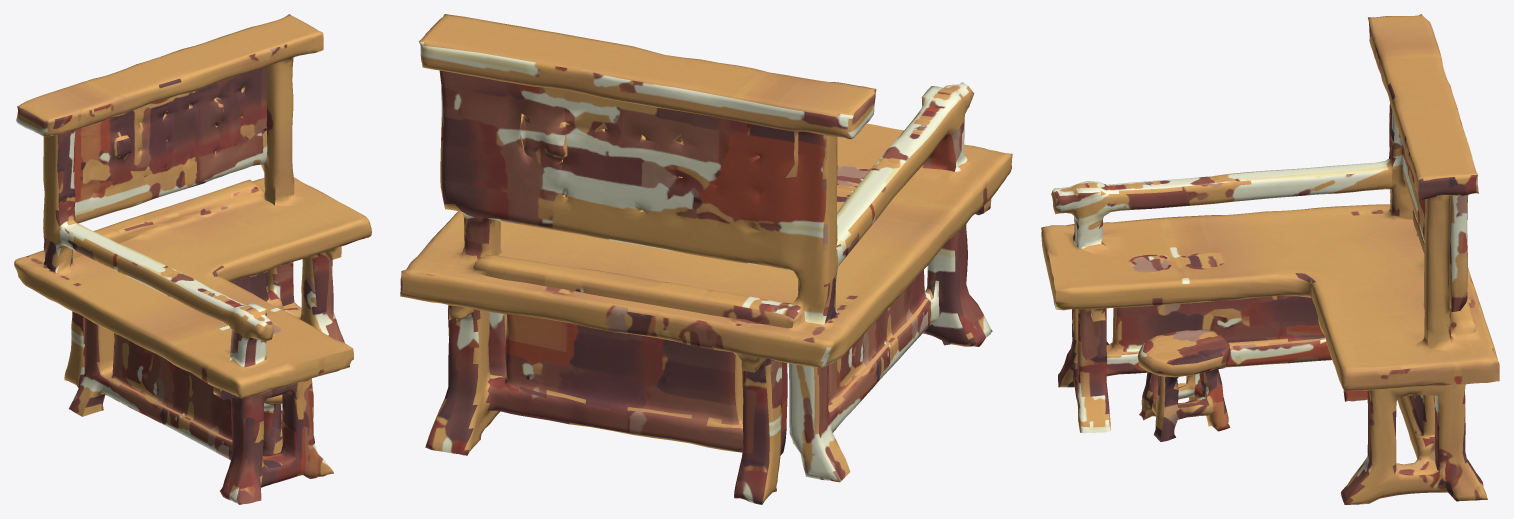
Rendered from B05_Workbench.fbx.
3 renders of one model, left to right at view 1: azimuth 30°, elevation 25°; view 2: azimuth 150°, elevation 25°; view 3: azimuth 270°, elevation 25°, orthographic. The views are drawn at different scales.
Visible parts, largest first — view 1: tripo_node_f9ca2597; view 2: tripo_node_f9ca2597; view 3: tripo_node_f9ca2597.
Part boxes in pixels (left/top/right/bottom): tripo_node_f9ca2597: left=14, top=14, right=371, bottom=504; tripo_node_f9ca2597: left=400, top=14, right=1012, bottom=504; tripo_node_f9ca2597: left=1041, top=14, right=1499, bottom=504.
Bounding box in the file's own units: 0.8816 × 0.7802 × 0.9782.
